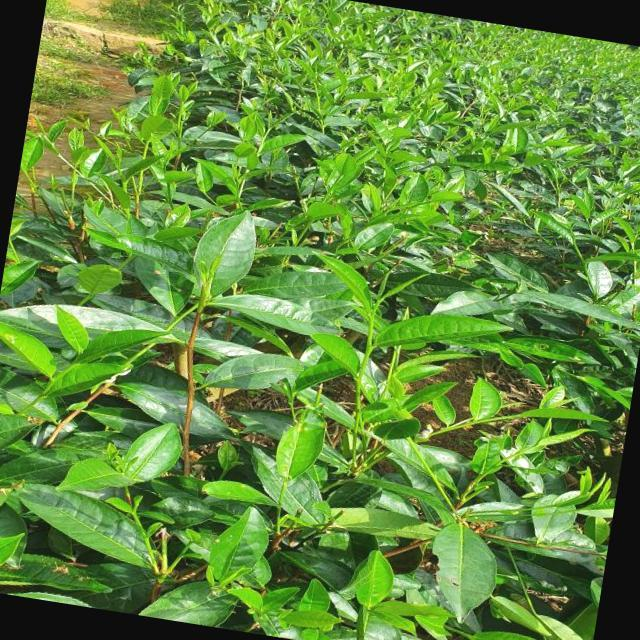Stem: (201, 291, 209, 303), (369, 316, 373, 325)
